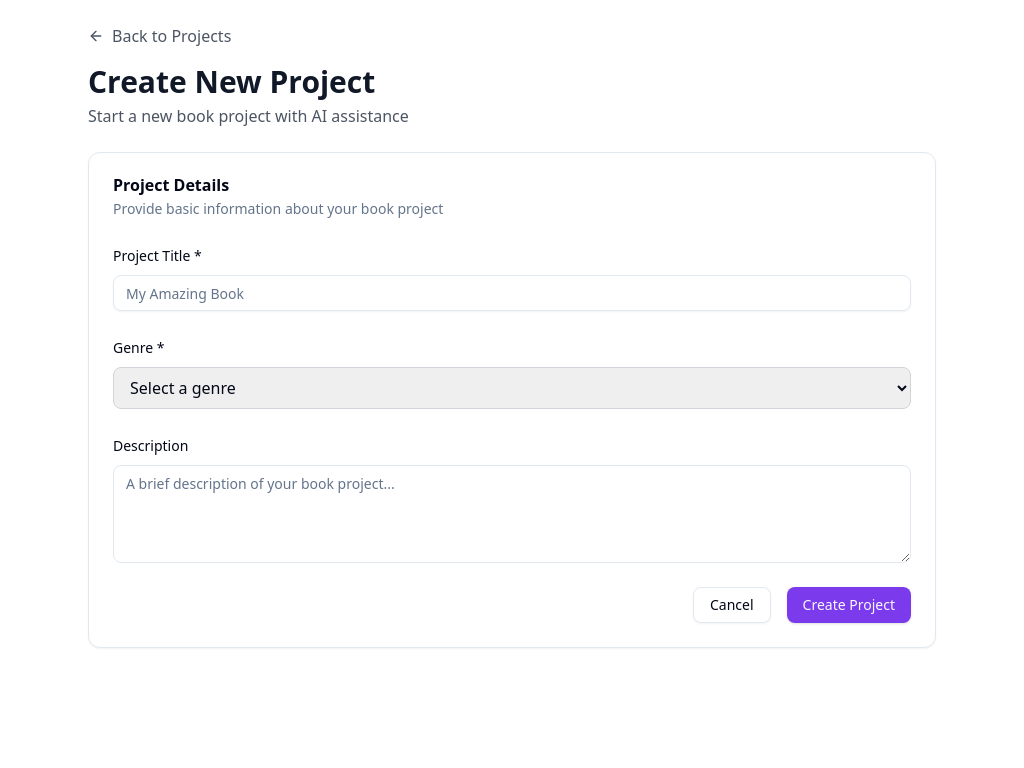
Project Creation E2E Tests › should disable submit button during submission
// Fill in form
Type "Test Project" into the field labelled "Project Title *" at (512, 293), box [113, 275, 911, 311]
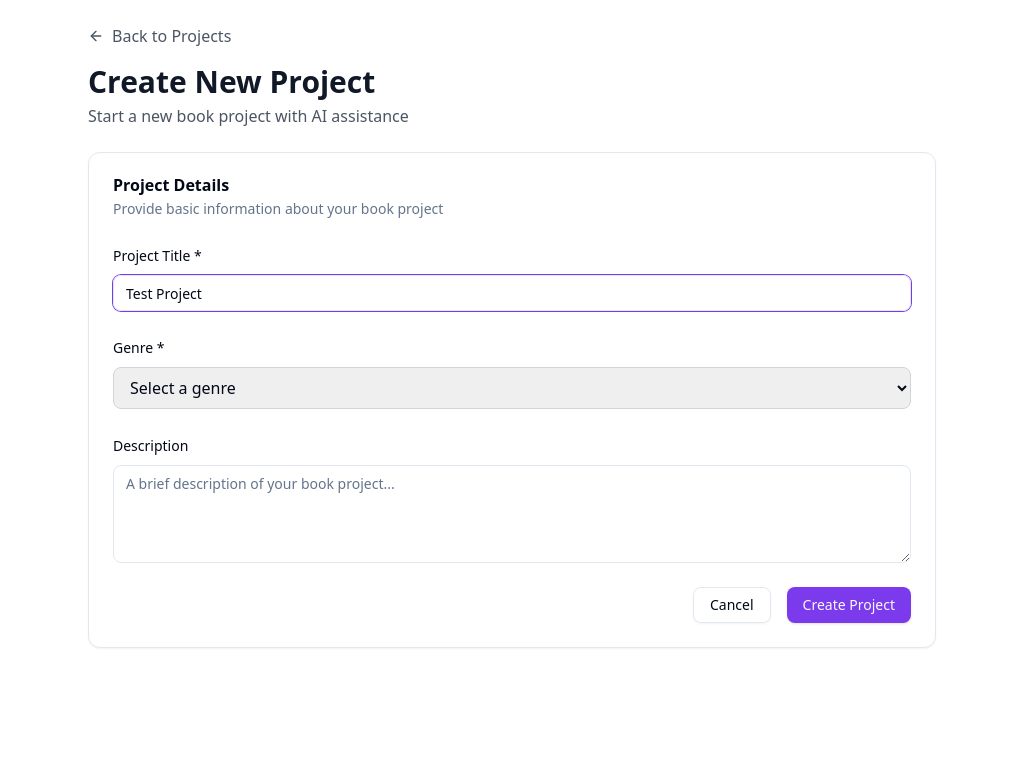
Select "Fiction" in the dropdown labelled "Genre *" at (512, 388), box [113, 367, 911, 409]
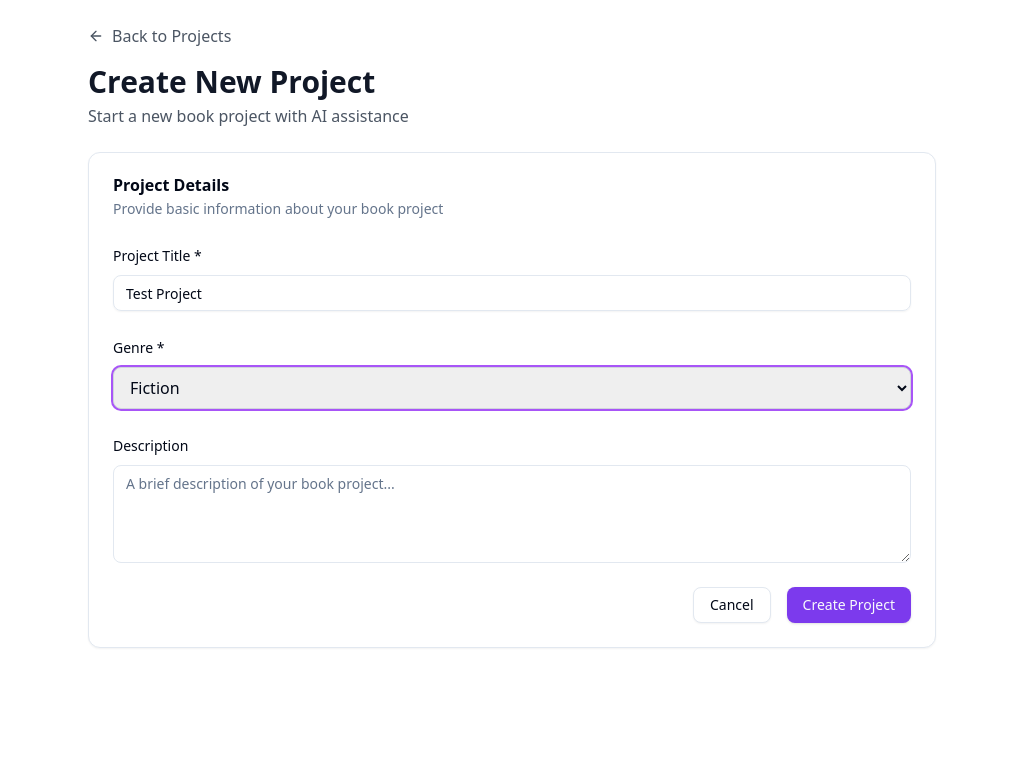
// Submit form
Click the button "Create Project" at (849, 605), box [787, 587, 911, 623]
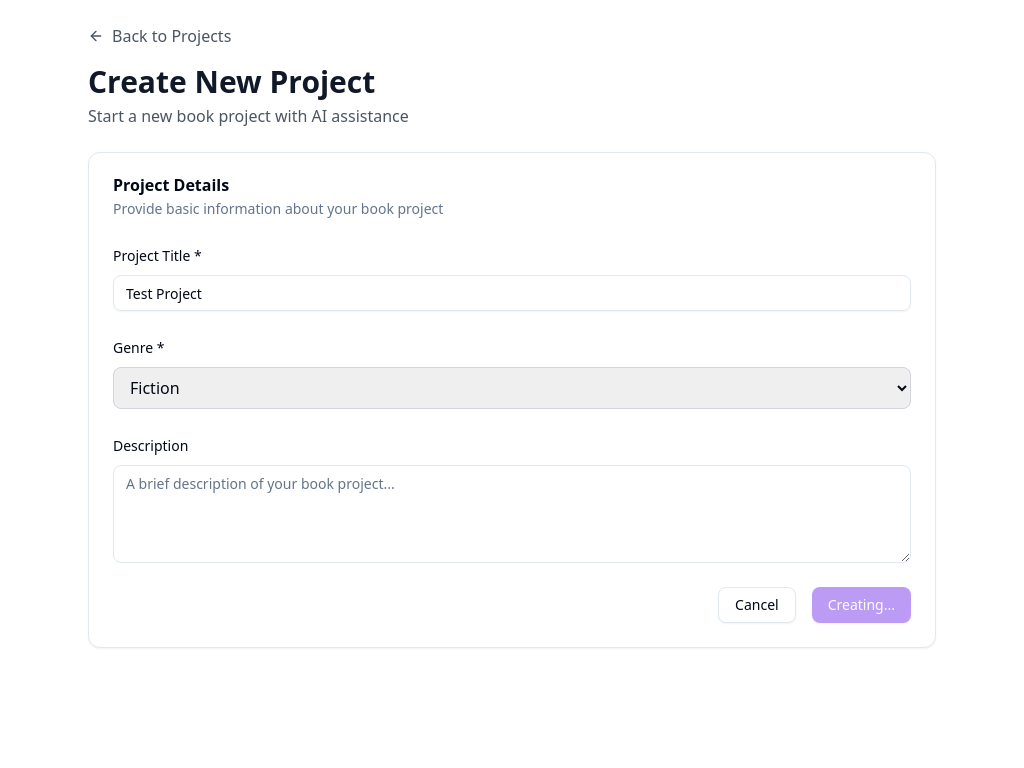
Result: the button "Creating..." is disabled at [812, 587, 911, 623]
